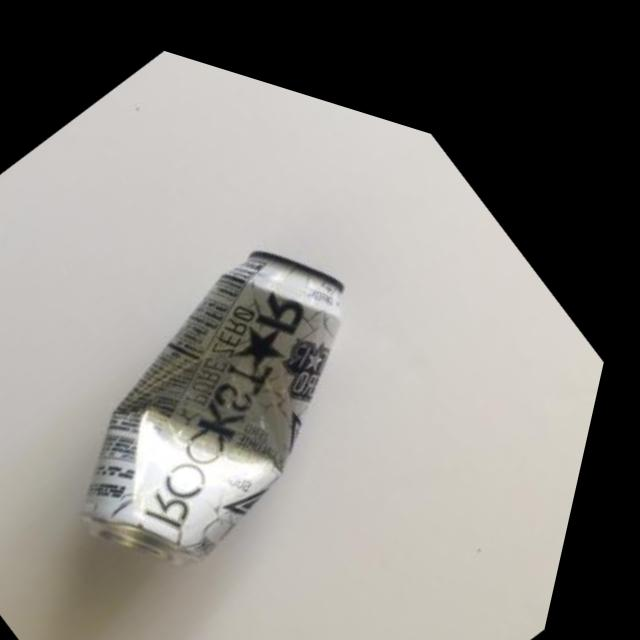metal: (0, 87, 499, 640)
